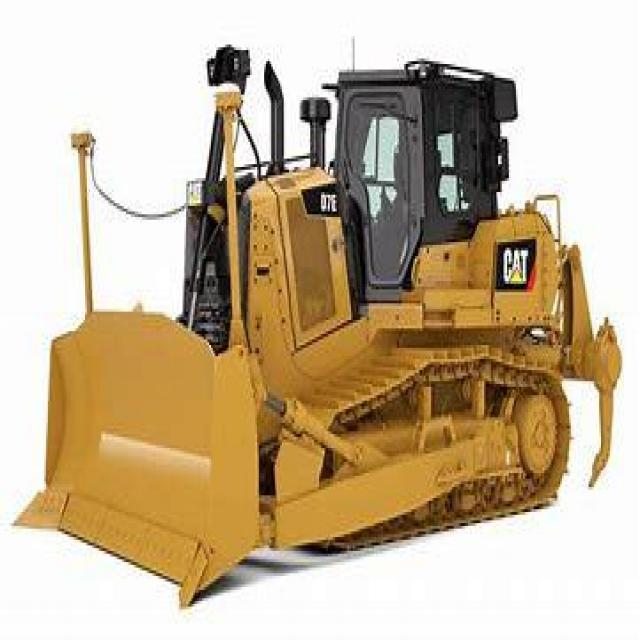Bulldozer: (12, 39, 624, 607)
